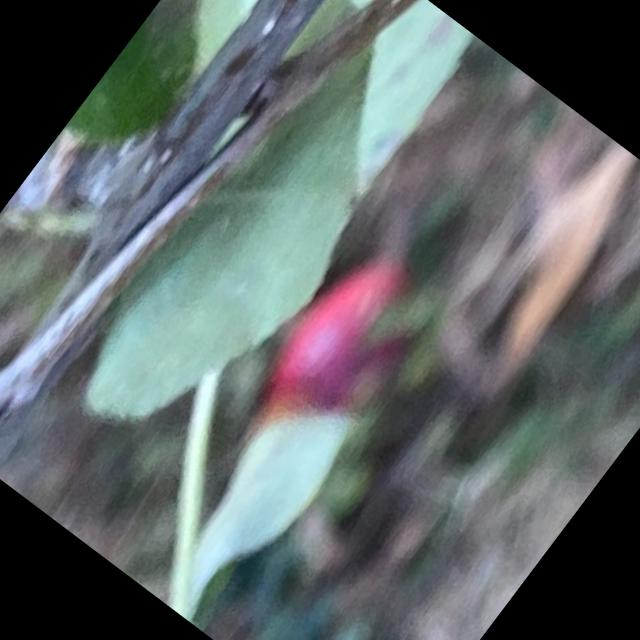Apples: (252, 247, 434, 448)
